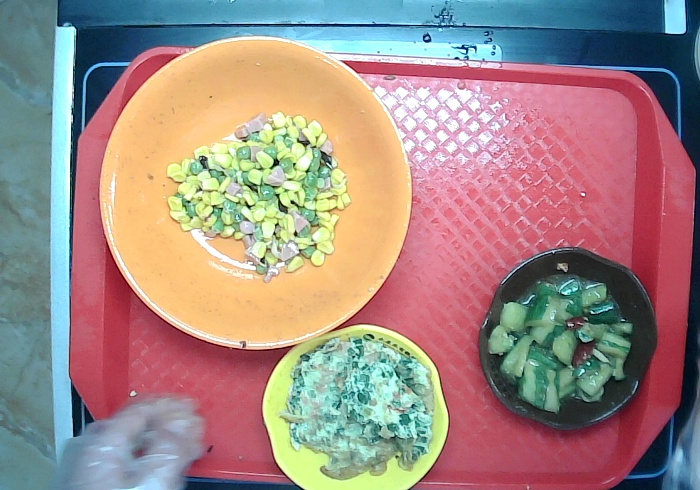YKMZ-Huang_Se_Ao_Bian_Wan: (259, 321, 452, 490)
YKMZ-Ju_Se_Tang_Wan: (96, 33, 415, 351)
YKMZ-Ka_Fei_Ao_Bian_Wan: (476, 244, 661, 432)
